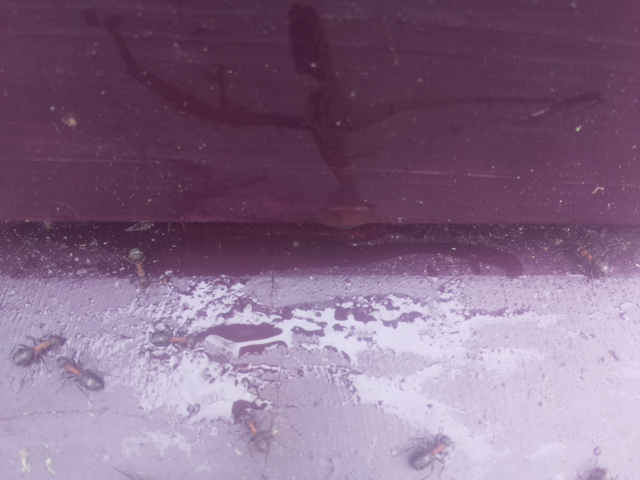ant: (224, 395, 281, 462), (49, 348, 111, 396), (4, 329, 71, 373), (405, 425, 458, 478), (114, 236, 158, 293), (570, 239, 613, 283), (150, 326, 194, 349)
